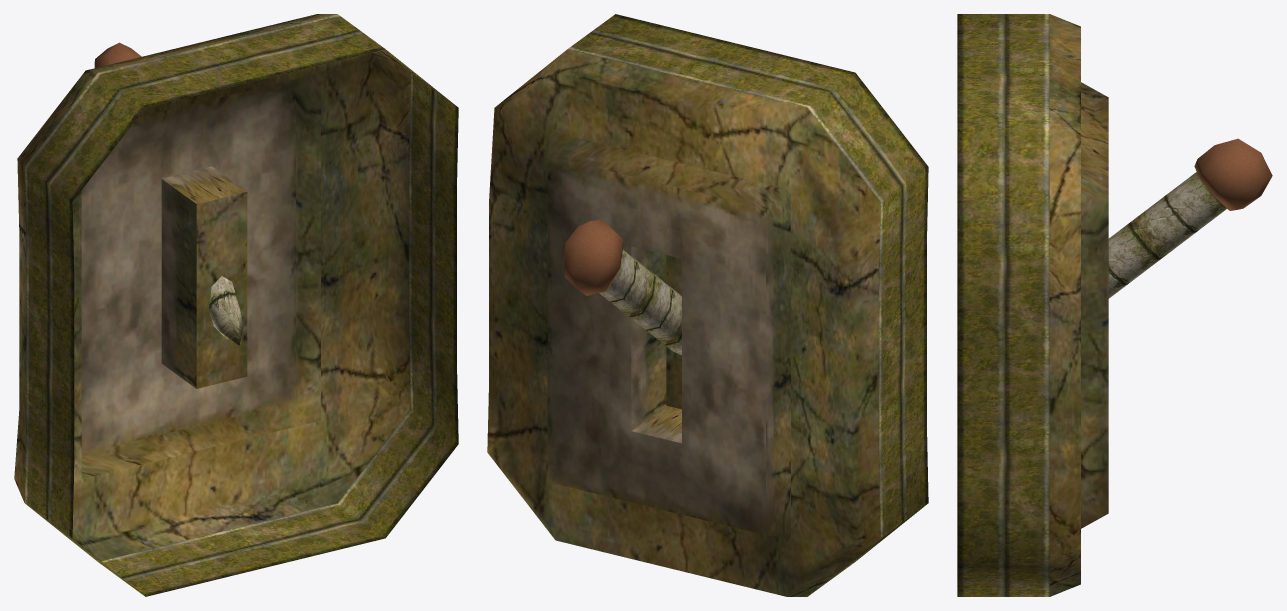
The model's file is INST_OH_SWITCH_UP.fbx.
3 renders of one model, left to right at view 1: azimuth 30°, elevation 25°; view 2: azimuth 150°, elevation 25°; view 3: azimuth 270°, elevation 25°, orthographic. The views are drawn at different scales.
Parts seen in each view (by area): view 1: INST_OH_SWITCH_UP; view 2: INST_OH_SWITCH_UP; view 3: INST_OH_SWITCH_UP.
Boxes of the visible parts, left/top/right/bottom form: INST_OH_SWITCH_UP: left=14, top=14, right=458, bottom=596; INST_OH_SWITCH_UP: left=487, top=14, right=928, bottom=596; INST_OH_SWITCH_UP: left=957, top=14, right=1272, bottom=596.
Size of the model in its own units: 5050 by 6114 by 3716.
5 materials, 5 textured.
